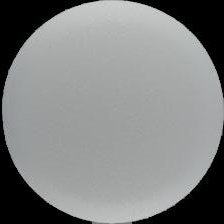63187-101: (0, 0, 224, 224)
